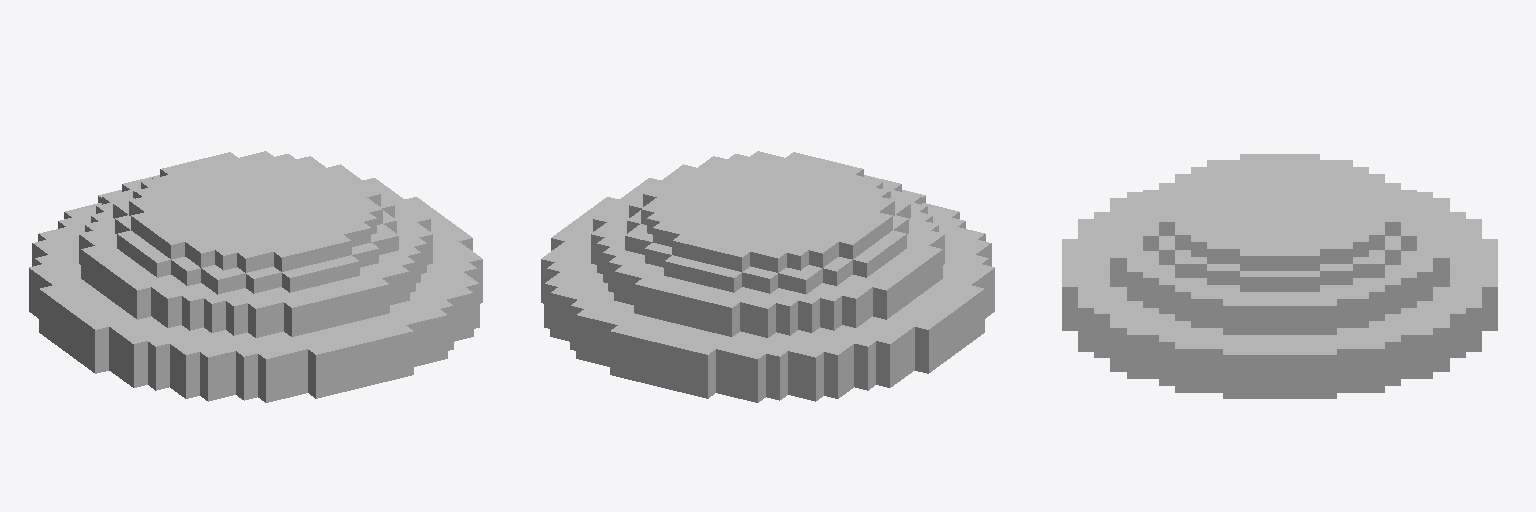
File: KitchenOPEN_Export-33.mtl.obj
3 views of the same model, side by side, from view 1: azimuth 30°, elevation 25°; view 2: azimuth 150°, elevation 25°; view 3: azimuth 270°, elevation 25° (orthographic).
Visible parts, largest first — view 1: KitchenOPEN_Export-33; view 2: KitchenOPEN_Export-33; view 3: KitchenOPEN_Export-33.
Part boxes in pixels (x1,y1,x2,y2): KitchenOPEN_Export-33: (29, 151, 482, 402); KitchenOPEN_Export-33: (541, 151, 994, 402); KitchenOPEN_Export-33: (1062, 154, 1497, 398).
Bounding box in the file's own units: 27 × 7 × 27.